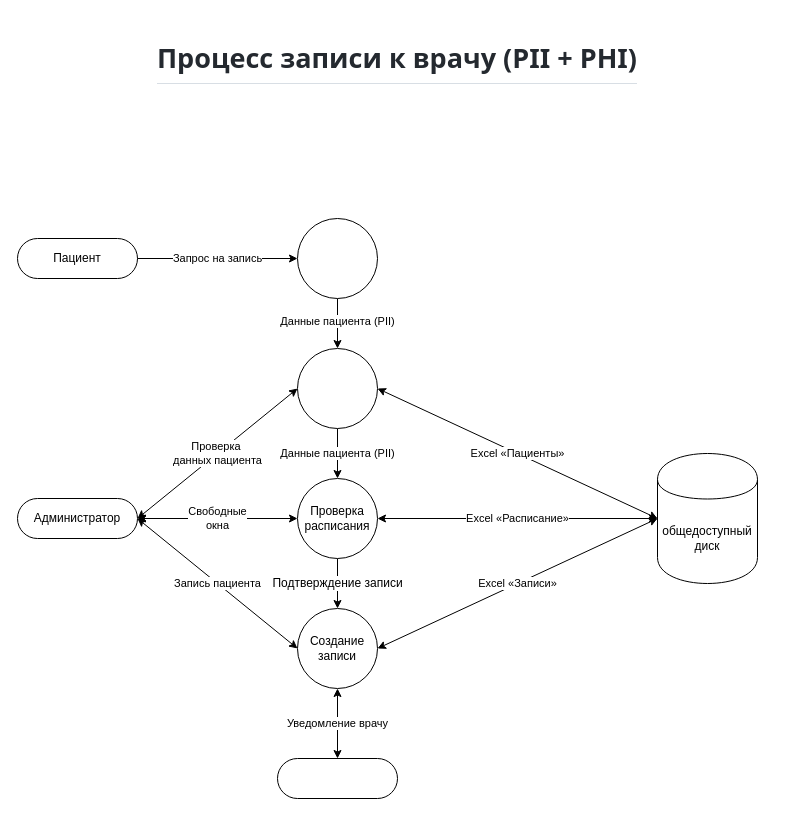
Image size: 795x816. Some labels were removed from this diagram. Each missing label, with the centre of its shape:
"Врач" belongs at (x=337, y=778).
"Поиск пациента" belongs at (x=337, y=388).
"Телефонный звонок" belongs at (x=337, y=258).
